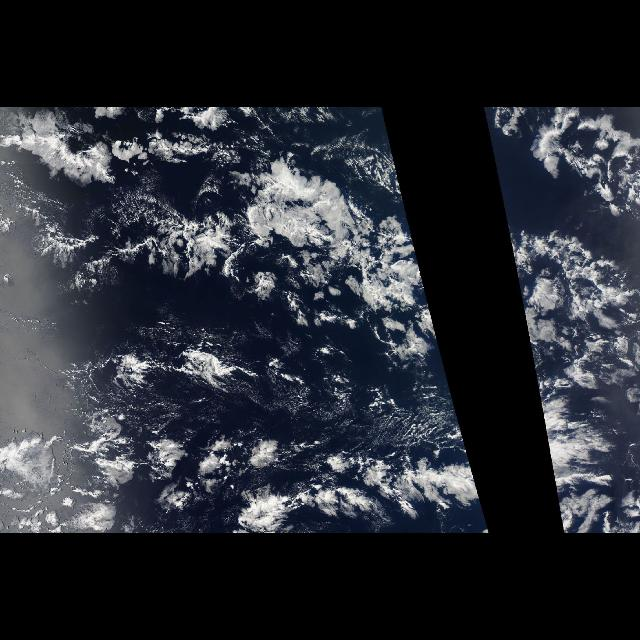Fish: (252, 156, 452, 394), (492, 156, 640, 394)
Flower: (188, 148, 448, 382), (52, 426, 490, 524), (491, 146, 505, 214)
